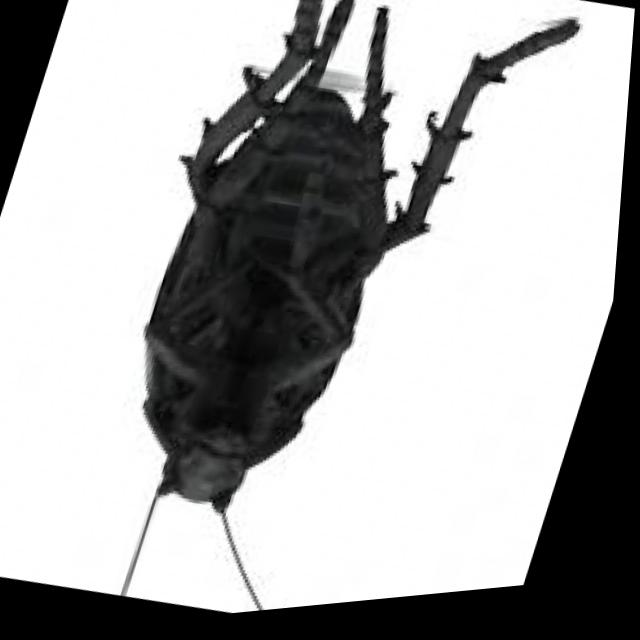Cockroach: (18, 0, 543, 636)
